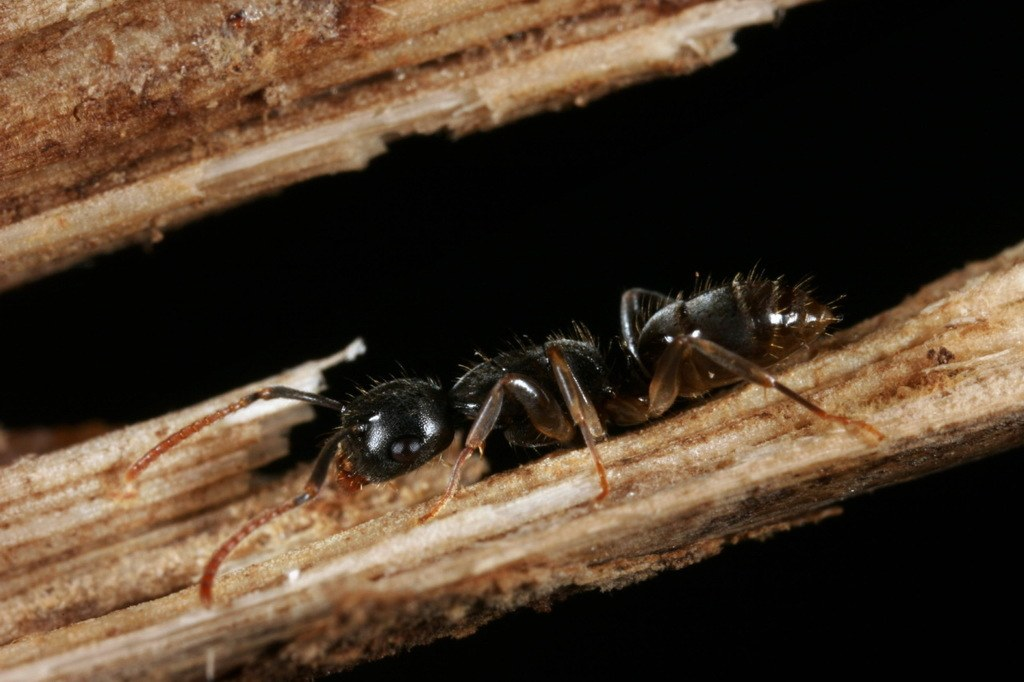bee: (100, 249, 887, 620)
insect: (145, 261, 895, 625)
